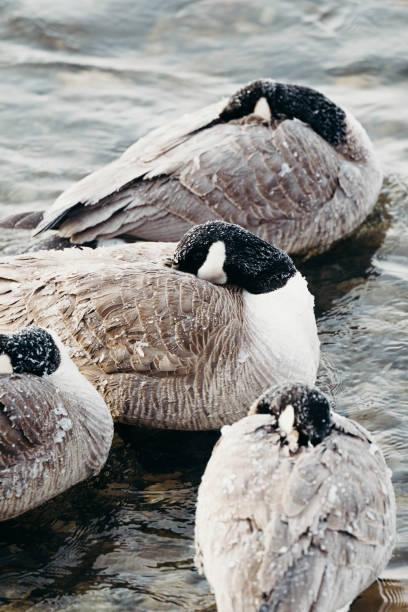Canadian-Goose: (0, 218, 322, 417), (46, 81, 378, 260), (189, 382, 397, 612), (1, 328, 114, 527)
